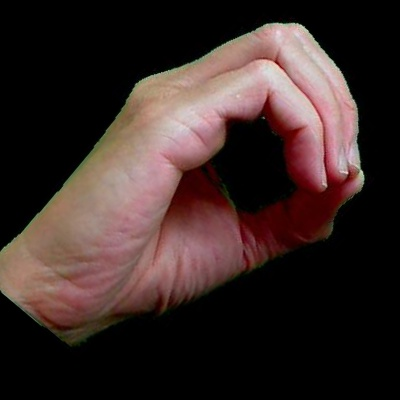o: (1, 1, 398, 368)
